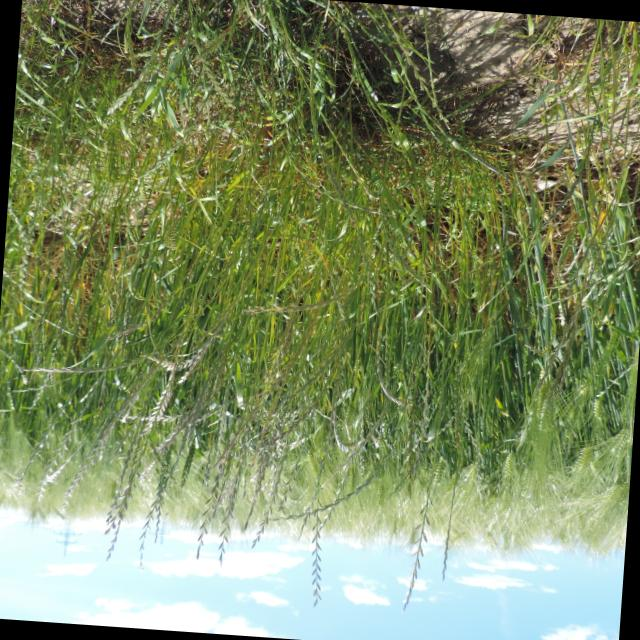Lolium: (0, 0, 640, 631), (256, 322, 464, 540), (110, 223, 214, 560), (302, 286, 352, 606)
